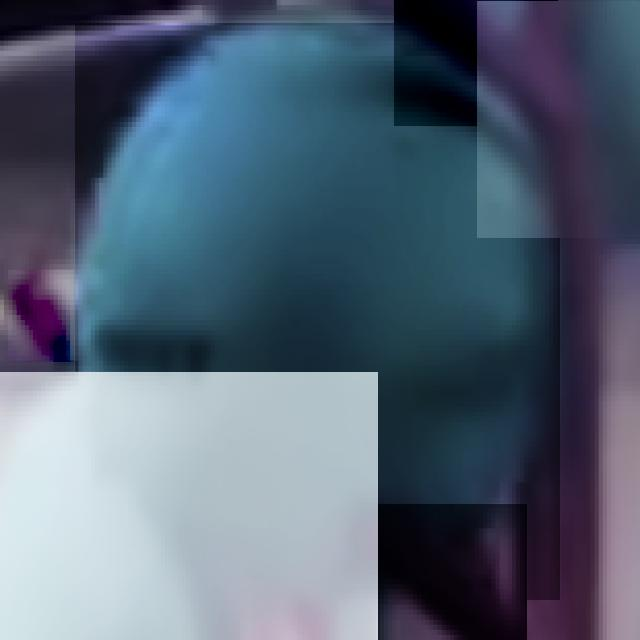Algae: (75, 23, 560, 600), (0, 372, 378, 640), (477, 1, 640, 238)
Reef: (361, 504, 527, 640), (394, 0, 558, 126), (9, 270, 74, 362)
